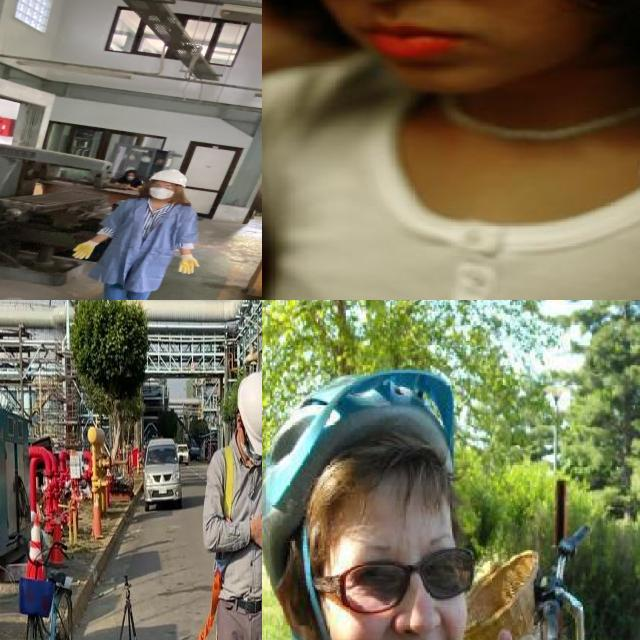Harness: (199, 562, 226, 640)
face_mask: (145, 182, 177, 200)
face_nomask: (280, 0, 502, 65), (331, 558, 468, 640)
glasses: (313, 544, 476, 618), (146, 184, 178, 191)
hand_glove: (69, 240, 99, 261), (176, 256, 204, 276)
head_helmet: (72, 165, 201, 300), (142, 168, 189, 185)
head_nohelmet: (262, 354, 457, 523)
person: (262, 373, 562, 640)
